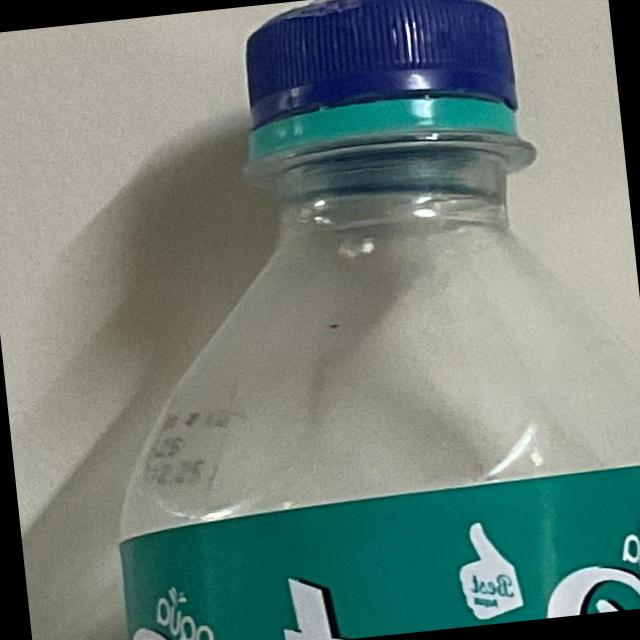Good-cap-Df0S: (207, 0, 548, 182)
